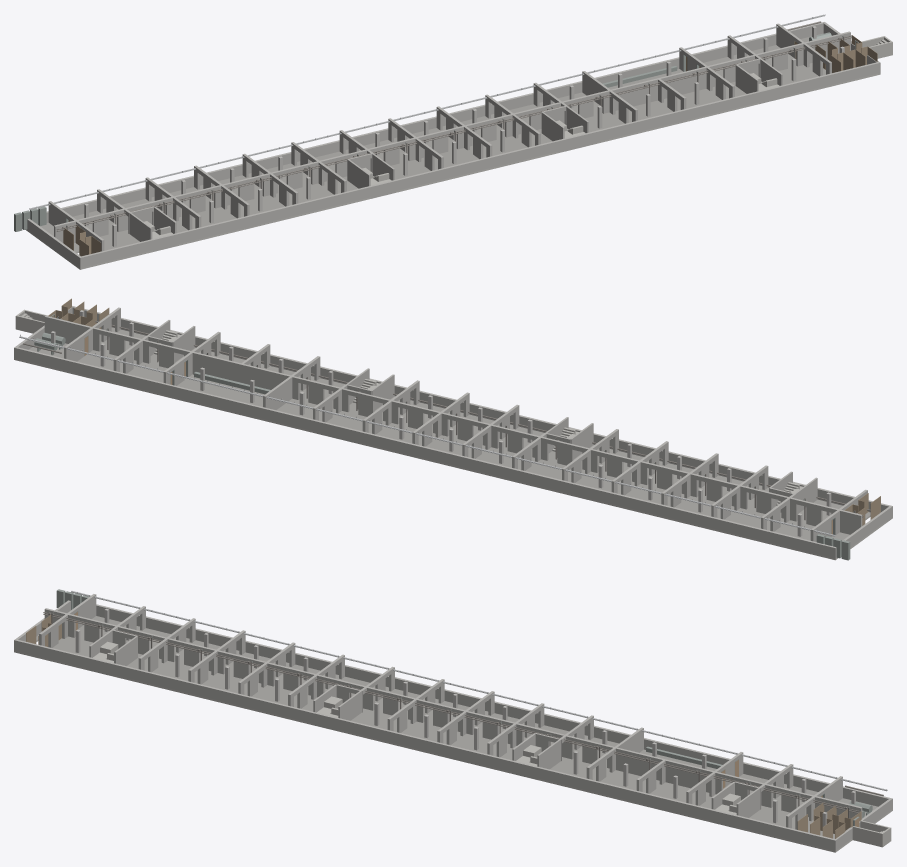
Rendered from b1_basement.glb.
The picture shows the model from 3 angles, top to bottom: view 1: azimuth 30°, elevation 25°; view 2: azimuth 150°, elevation 25°; view 3: azimuth 330°, elevation 25°; orthographic projection. The views are drawn at different scales.
Visible parts, largest first — view 1: b1_bsm_wall_f-1__basement_wall, b1_bsm_floor_f-1__basement_floor, b1_bsm_pipe_f-1__pipe, b1_bsm_column_f-1__column, b1_bsm_grid_f-1__storage_grid, b1_bsm_tray_f-1__cable_tray, b1_bsm_floor_f-1__slab_edge, b1_bsm_equip_f-1__equipment, b1_bsm_fill_f-1__monolith; view 2: b1_bsm_wall_f-1__basement_wall, b1_bsm_floor_f-1__basement_floor, b1_bsm_column_f-1__column, b1_bsm_tray_f-1__cable_tray, b1_bsm_floor_f-1__slab_edge, b1_bsm_equip_f-1__equipment, b1_bsm_pipe_f-1__pipe, b1_bsm_grid_f-1__storage_grid, b1_bsm_pit_f-1__monolith, b1_bsm_stairs_f-1__monolith; view 3: b1_bsm_wall_f-1__basement_wall, b1_bsm_floor_f-1__basement_floor, b1_bsm_pipe_f-1__pipe, b1_bsm_column_f-1__column, b1_bsm_tray_f-1__cable_tray, b1_bsm_floor_f-1__slab_edge, b1_bsm_grid_f-1__storage_grid, b1_bsm_fill_f-1__monolith, b1_bsm_equip_f-1__equipment, b1_bsm_pit_f-1__monolith.
Boxes of the visible parts, x1,y1,x2,y2 form: b1_bsm_wall_f-1__basement_wall: (27, 22, 880, 269); b1_bsm_floor_f-1__basement_floor: (40, 33, 825, 251); b1_bsm_pipe_f-1__pipe: (57, 21, 852, 231); b1_bsm_column_f-1__column: (84, 26, 844, 246); b1_bsm_grid_f-1__storage_grid: (63, 35, 877, 256); b1_bsm_tray_f-1__cable_tray: (29, 14, 825, 209); b1_bsm_floor_f-1__slab_edge: (26, 73, 880, 269); b1_bsm_equip_f-1__equipment: (14, 32, 858, 231); b1_bsm_fill_f-1__monolith: (144, 73, 779, 238); b1_bsm_wall_f-1__basement_wall: (14, 306, 892, 559); b1_bsm_floor_f-1__basement_floor: (29, 327, 870, 540); b1_bsm_column_f-1__column: (51, 310, 831, 536); b1_bsm_tray_f-1__cable_tray: (19, 334, 835, 536); b1_bsm_floor_f-1__slab_edge: (14, 358, 892, 559); b1_bsm_equip_f-1__equipment: (34, 314, 854, 560); b1_bsm_pipe_f-1__pipe: (23, 316, 880, 520); b1_bsm_grid_f-1__storage_grid: (48, 298, 880, 525); b1_bsm_pit_f-1__monolith: (15, 309, 47, 333); b1_bsm_stairs_f-1__monolith: (154, 330, 799, 505); b1_bsm_wall_f-1__basement_wall: (14, 594, 892, 852); b1_bsm_floor_f-1__basement_floor: (36, 616, 877, 838); b1_bsm_pipe_f-1__pipe: (43, 612, 883, 818); b1_bsm_column_f-1__column: (75, 608, 855, 826); b1_bsm_tray_f-1__cable_tray: (71, 591, 887, 791); b1_bsm_floor_f-1__slab_edge: (14, 639, 892, 852); b1_bsm_grid_f-1__storage_grid: (26, 615, 861, 838); b1_bsm_fill_f-1__monolith: (93, 641, 740, 814); b1_bsm_equip_f-1__equipment: (52, 589, 872, 826); b1_bsm_pit_f-1__monolith: (852, 820, 891, 847).
Bounding box in the file's own units: 104 × 2.68 × 12.
